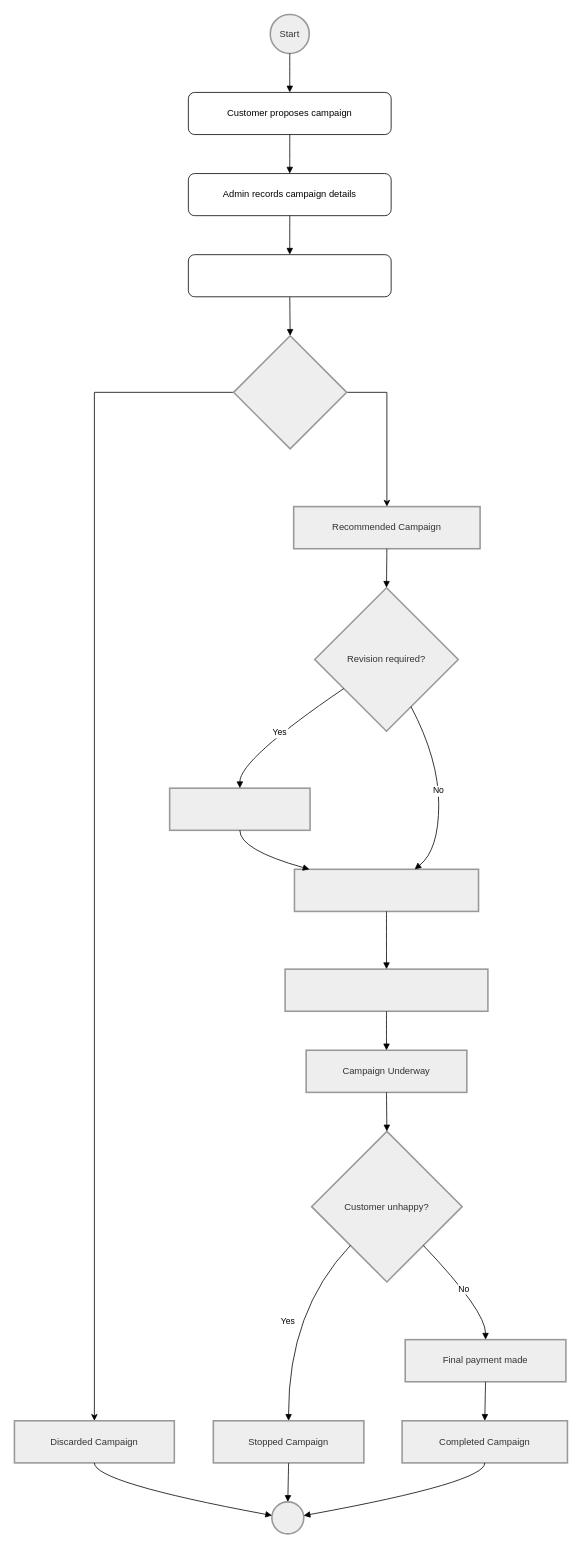
Some shapes in this 581 by 1548 pixel diagram are drawn without their labels. The centre of each missing label's shape, as x and y in pixels:
"Commissioned Campaign" goes at (x=386, y=890).
"End" goes at (x=287, y=1517).
"Revise Campaign" goes at (x=239, y=809).
"Satisfactory?" goes at (x=289, y=392).
"Technical staff assess campaign" goes at (x=289, y=275).
"Technical staff produce advertisements" goes at (x=386, y=990).
